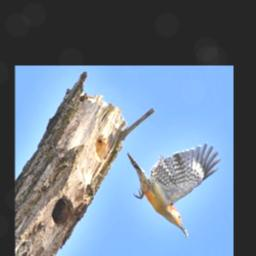Woodpecker: (126, 140, 222, 238)
